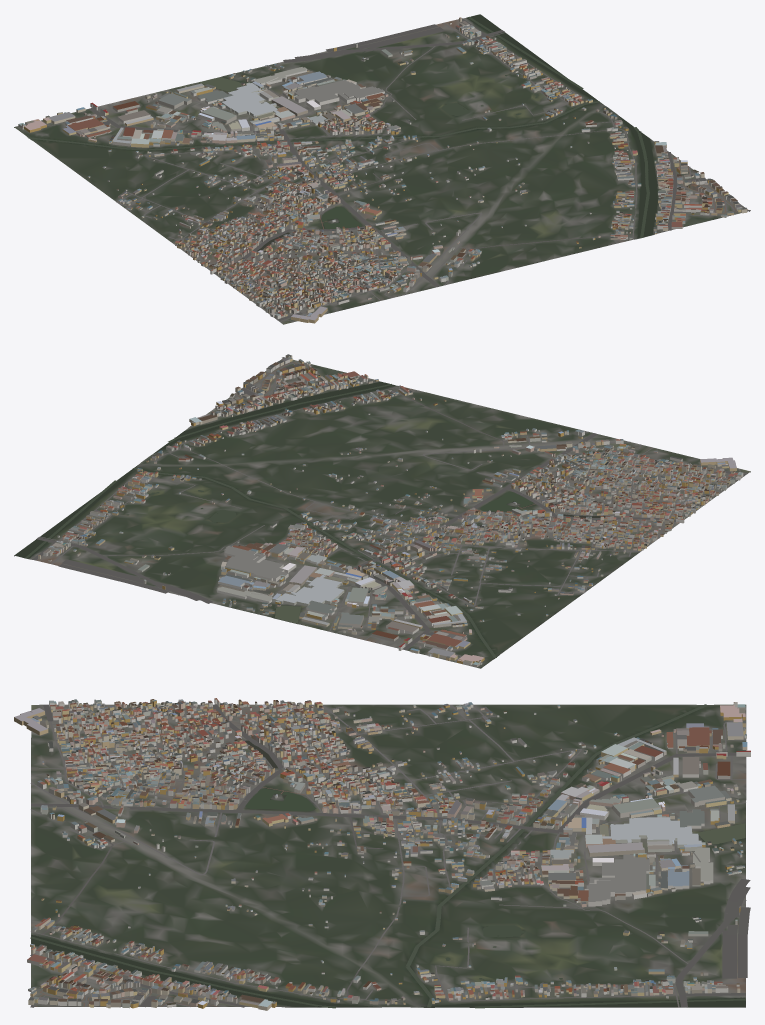
3 views of the same model, one above another, from view 1: azimuth 30°, elevation 25°; view 2: azimuth 150°, elevation 25°; view 3: azimuth 270°, elevation 25° (orthographic). The views are drawn at different scales.
Parts seen in each view (by area): view 1: ground, buildings, roads, water; view 2: ground, buildings, roads, water; view 3: ground, buildings, roads, water.
Boxes of the visible parts, x1,y1,x2,y2 form: ground: (14, 18, 749, 324); buildings: (18, 17, 747, 323); roads: (42, 18, 750, 322); water: (28, 14, 657, 251); ground: (14, 359, 750, 668); buildings: (38, 354, 743, 667); roads: (32, 357, 747, 661); water: (15, 381, 608, 657); ground: (31, 704, 746, 1007); buildings: (14, 698, 750, 1010); roads: (30, 704, 750, 1007); water: (30, 704, 745, 1008).
Size of the model in its own units: 1426 by 21.71 by 1445.
